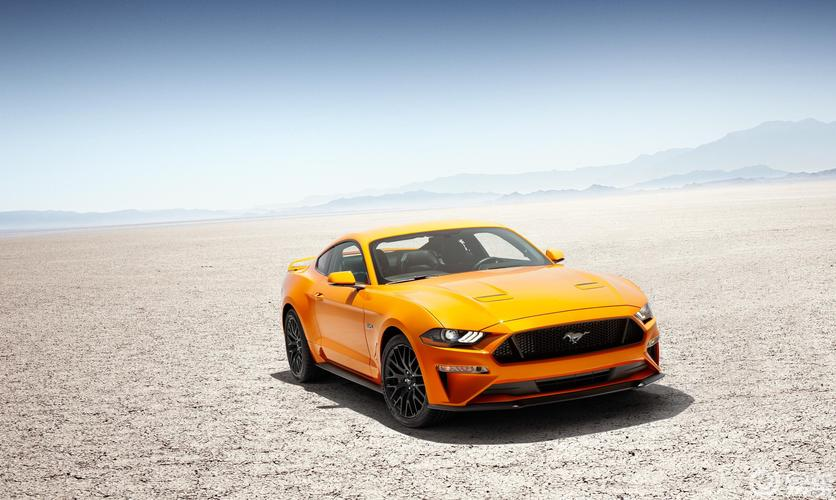汽车: (275, 220, 673, 438)
